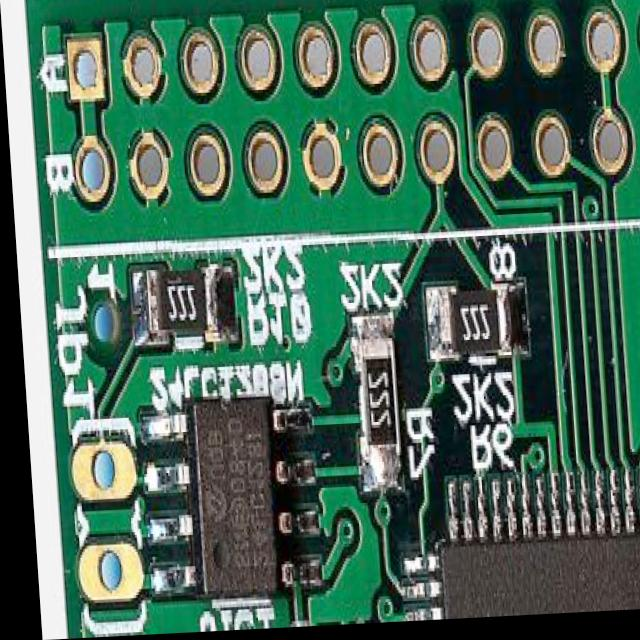IC: (386, 474, 640, 625), (132, 408, 316, 610)
component text: (193, 416, 263, 582), (451, 304, 487, 360), (358, 374, 385, 443), (158, 287, 192, 331)
connector: (39, 0, 640, 253), (62, 424, 137, 627)
resistor: (344, 319, 398, 498), (125, 268, 234, 350), (418, 291, 523, 369)
